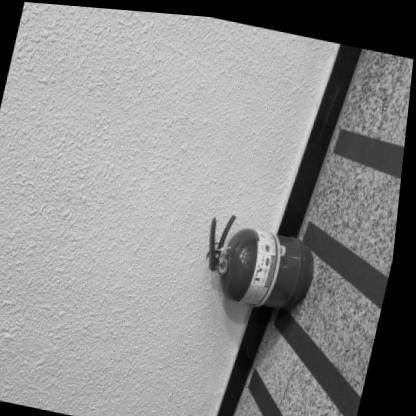FE: (198, 206, 328, 311)
